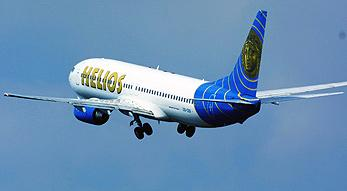airplane: (1, 10, 335, 130)
